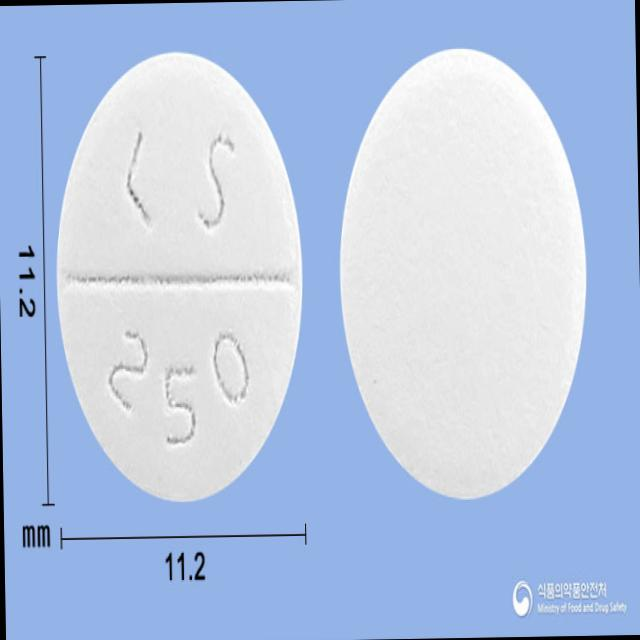Cifroxa: (48, 43, 310, 511)
